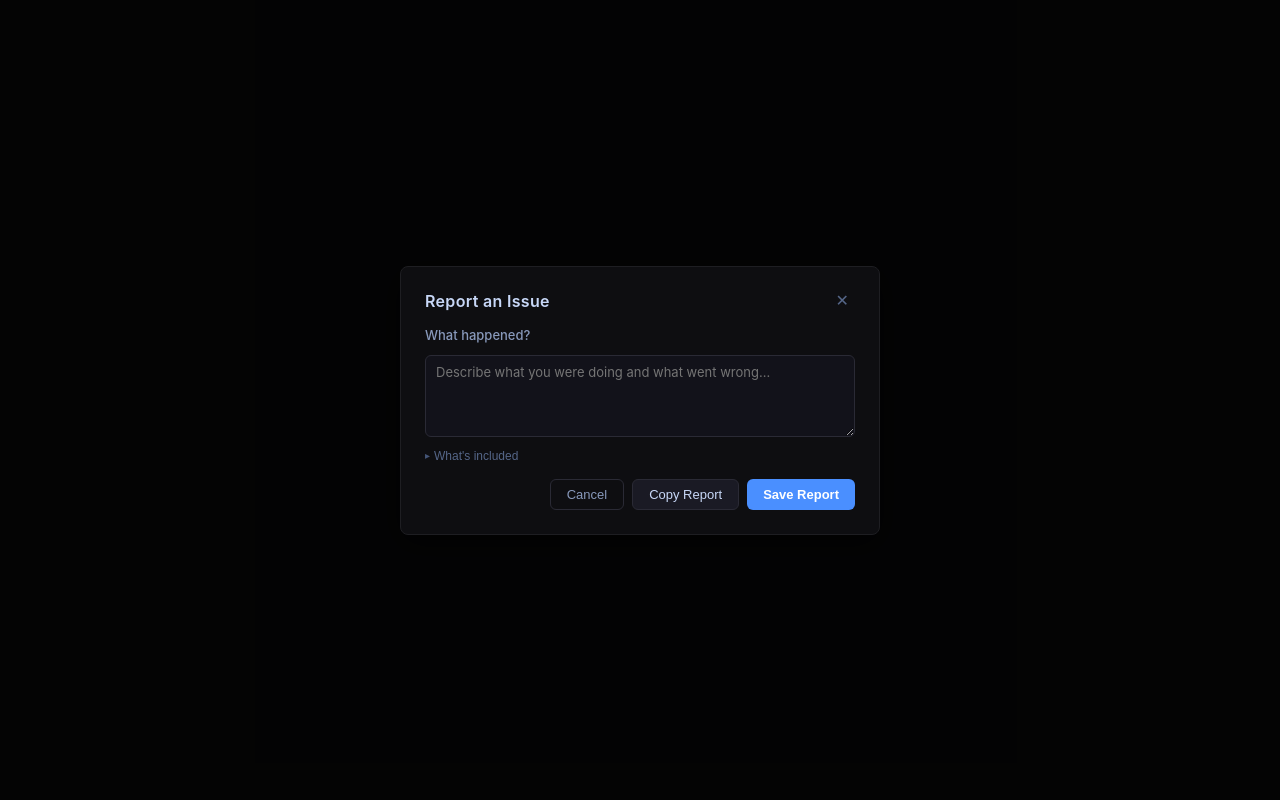
Test: BugReportModal — disclosure › opens "What's included" when clicked
Step 1. Click the button "▸ What's included" → (476, 456), box [425,448,855,462]
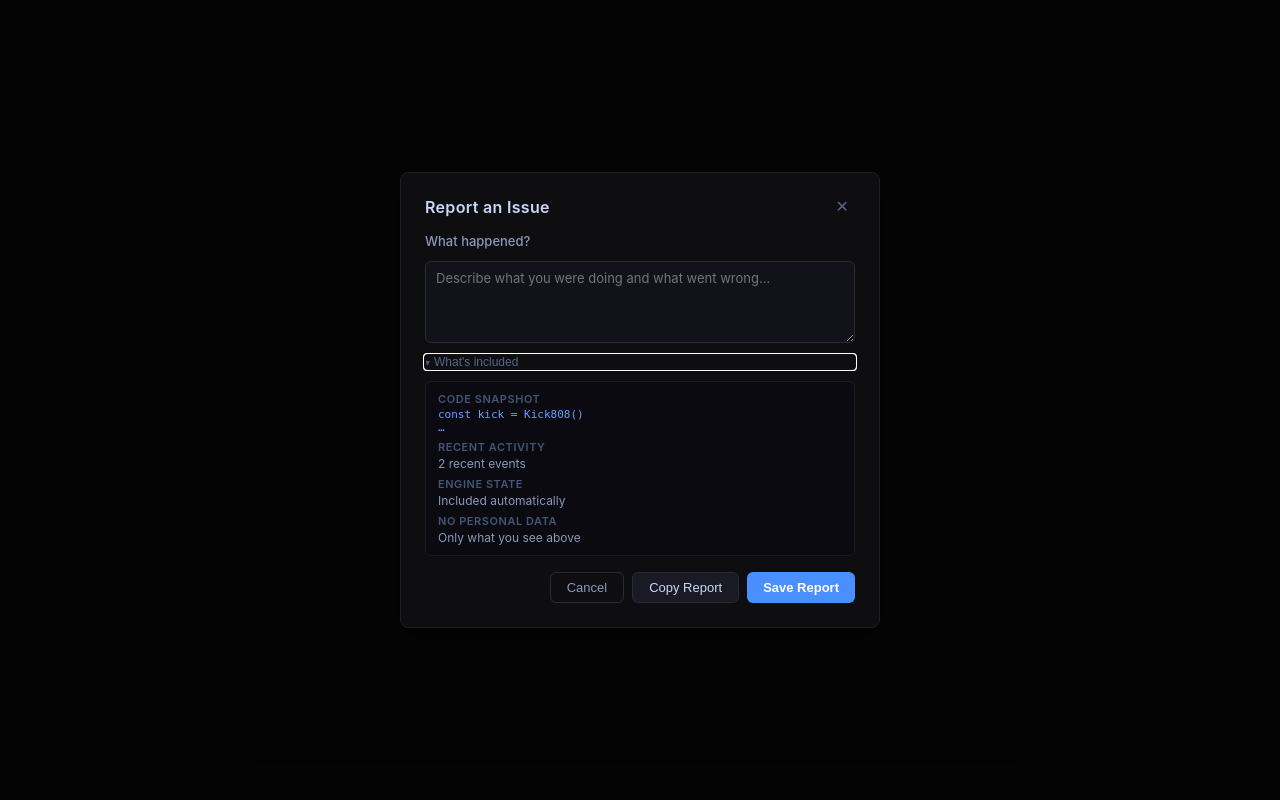
expect the text "Code snapshot" is shown: met, box [438,392,540,406]
